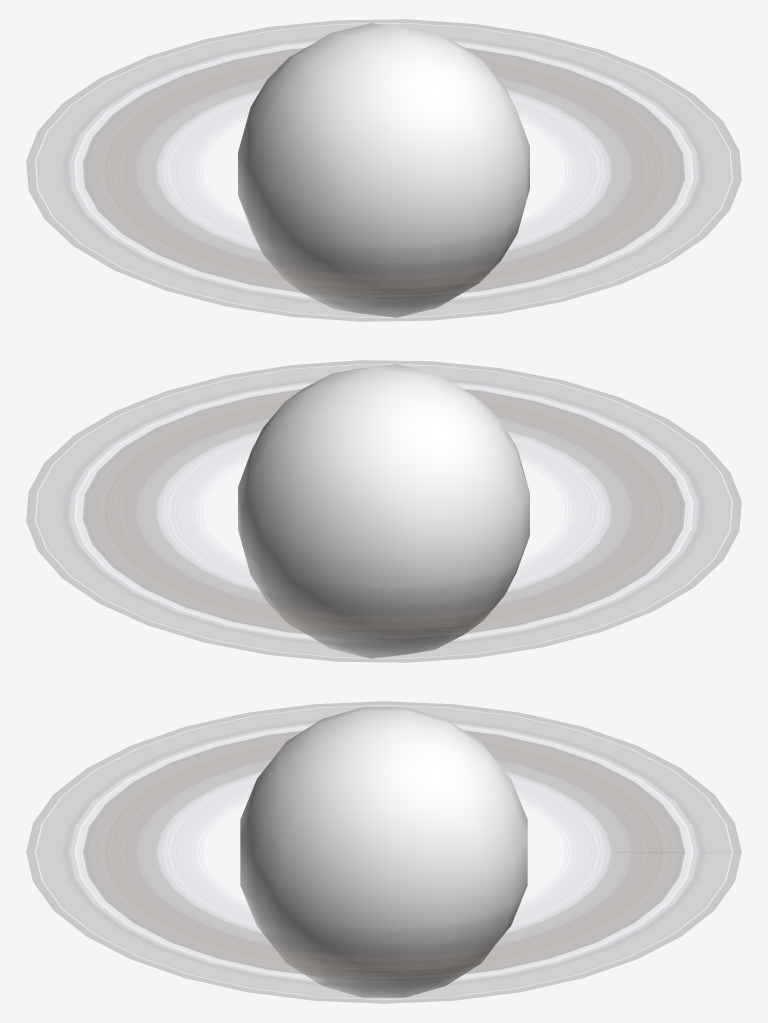
Rendered from saturn.glb.
The picture shows the model from 3 angles, top to bottom: view 1: azimuth 30°, elevation 25°; view 2: azimuth 150°, elevation 25°; view 3: azimuth 270°, elevation 25°; orthographic projection.
Visible parts, largest first — view 1: Ring, Atmos; view 2: Ring, Atmos; view 3: Ring, Atmos.
Part boxes in pixels (x1=…): Ring: x1=26, y1=19, x2=741, y2=321; Atmos: x1=238, y1=23, x2=529, y2=317; Ring: x1=26, y1=360, x2=741, y2=662; Atmos: x1=238, y1=364, x2=529, y2=658; Ring: x1=26, y1=701, x2=741, y2=1003; Atmos: x1=240, y1=707, x2=527, y2=997.
Size of the model in its own units: 8.72 by 3.38 by 8.72.
3 materials, 2 textured.
